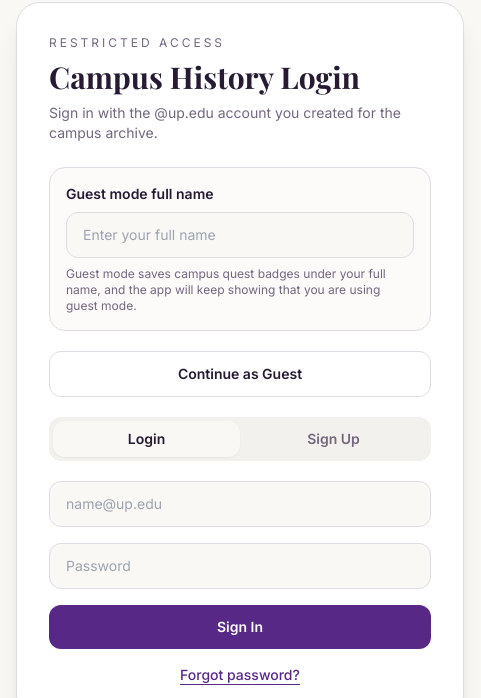
Scenario: LoginGate › submits sign up with a up.edu email
expect the heading "Campus History Login" is shown: met, box x1=49 y1=56 x2=360 y2=96
Click the button "Sign Up". click: [334, 438]
box: x1=240 y1=420 x2=427 y2=456
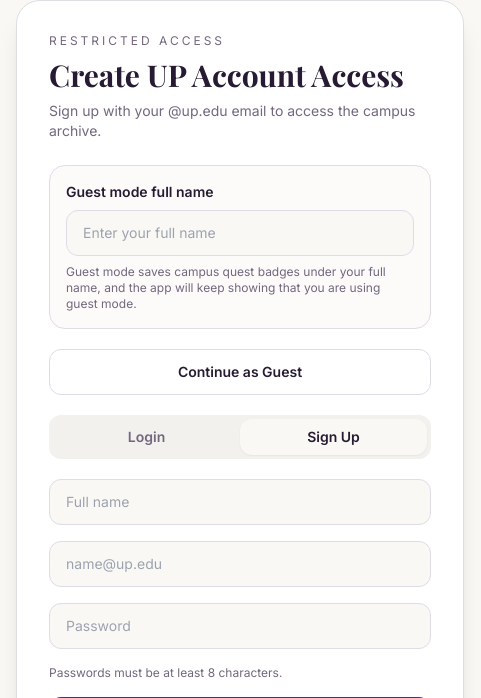
Type "New User" into the field with placeholder "Full name". click: [240, 502]
box: x1=49 y1=479 x2=431 y2=525
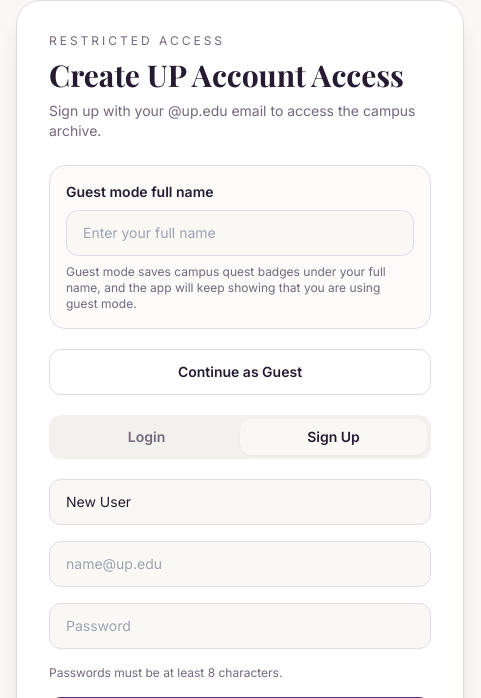
Type "newuser@up.edu" into the field with placeholder "name@up.edu". click: [240, 564]
box: x1=49 y1=541 x2=431 y2=587
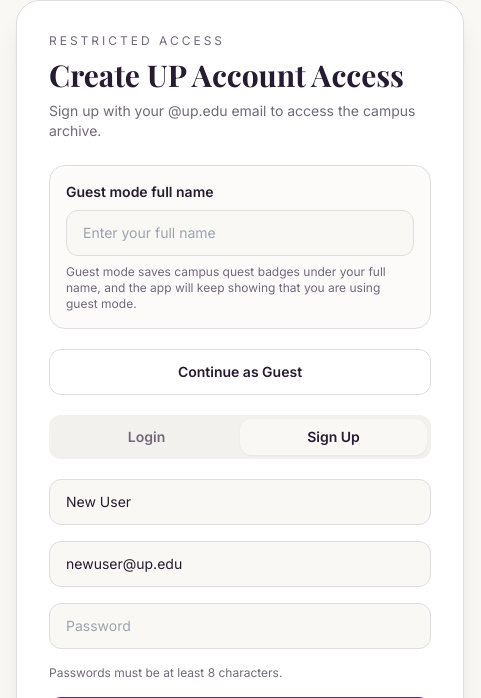
Type "campuspass" into the password field with placeholder "Password". click: [240, 626]
box: x1=49 y1=603 x2=431 y2=649
(page scrolled)
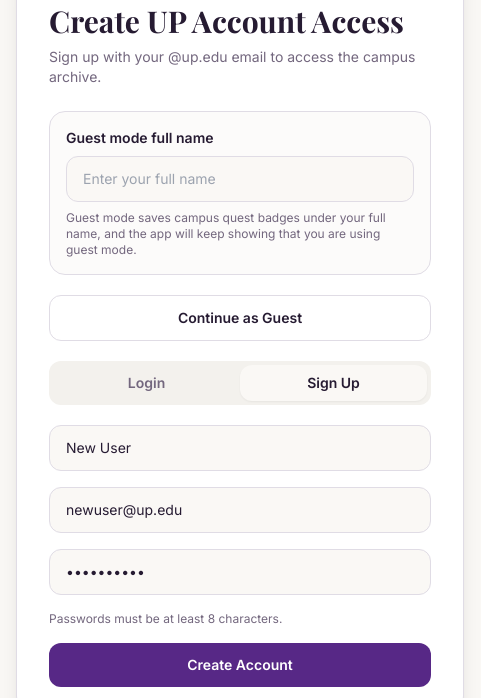
Click the button "Create Account". click: [240, 665]
box: x1=49 y1=643 x2=431 y2=687
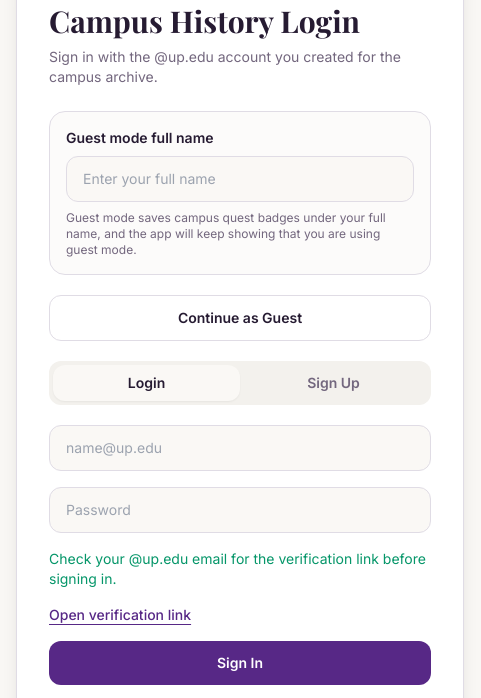
expect the text "Check your @up.edu email" is shown: met, box x1=49 y1=550 x2=426 y2=587
